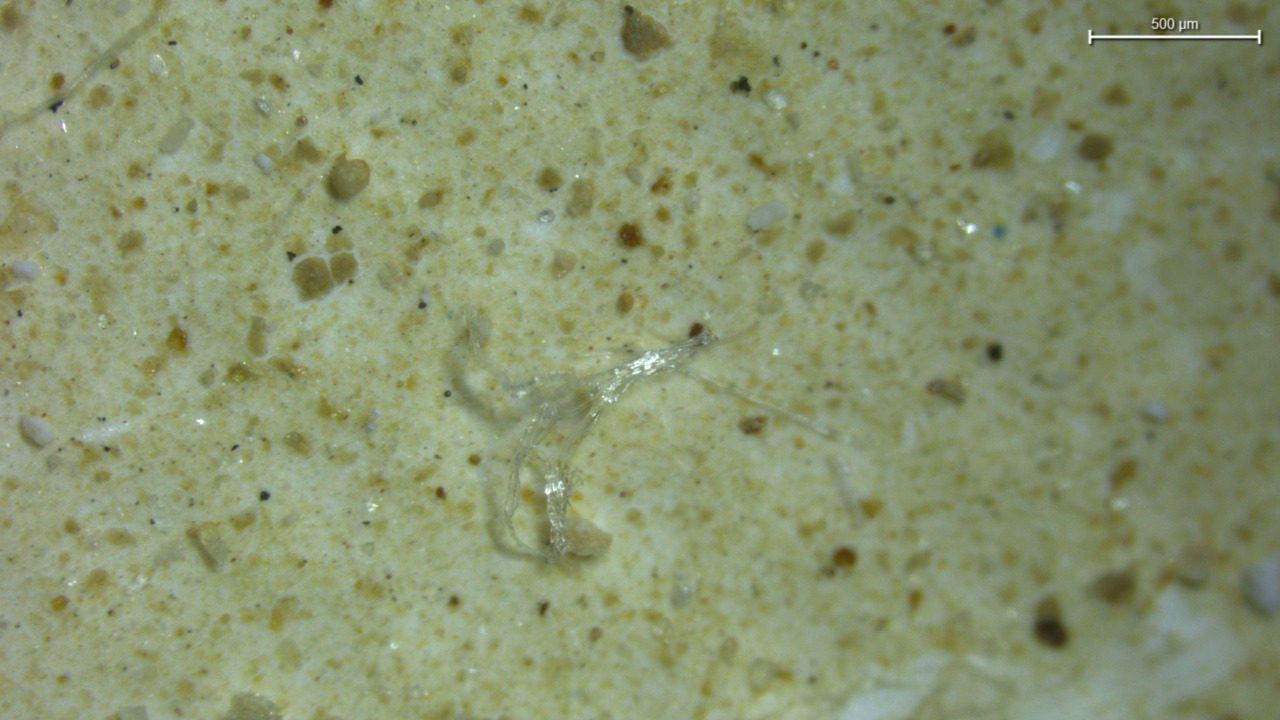microplastic_fragment: (488, 325, 718, 556), (451, 338, 485, 404), (747, 201, 786, 232), (19, 415, 54, 447)
